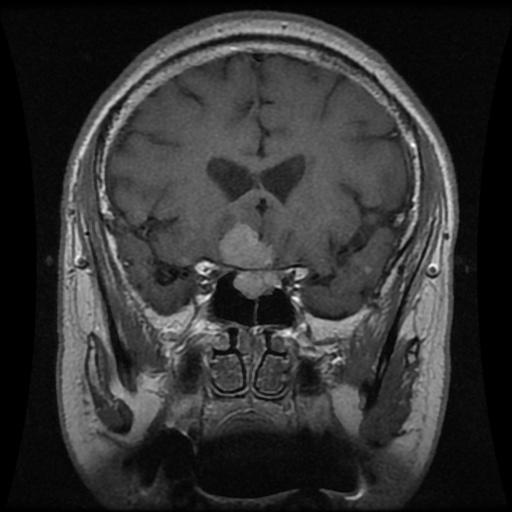pituitary: (219, 222, 281, 297)
